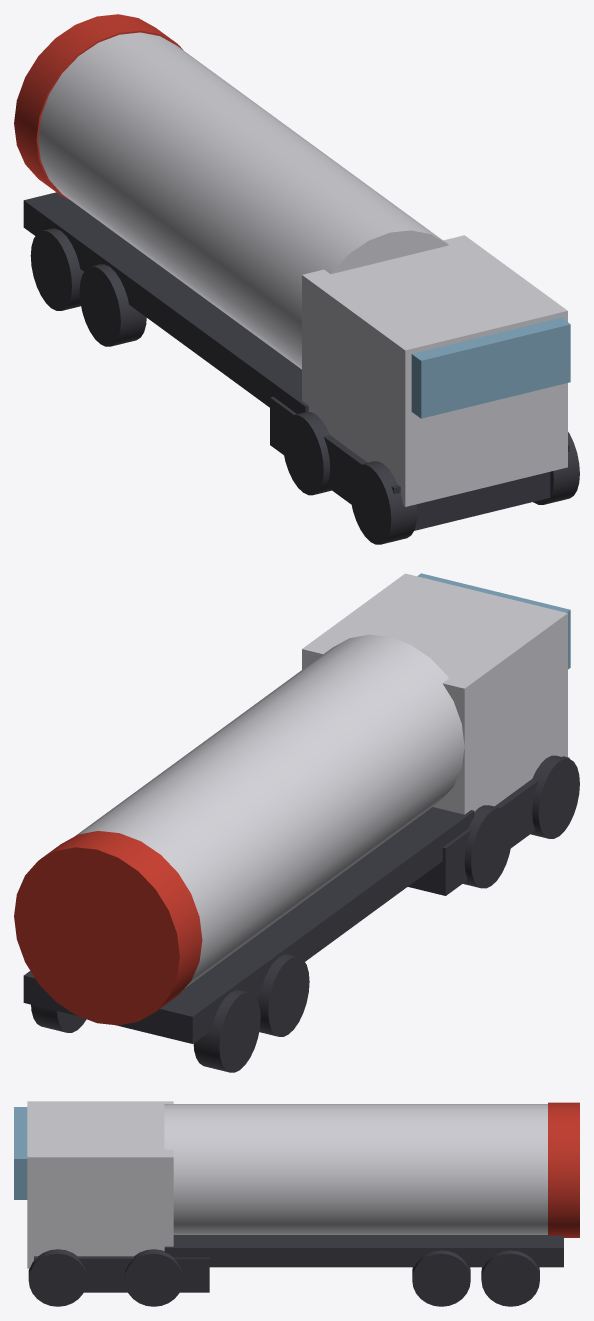
File: caminhao.glb
3 views of the same model, one above another, from view 1: azimuth 30°, elevation 25°; view 2: azimuth 150°, elevation 25°; view 3: azimuth 270°, elevation 25° (orthographic). The views are drawn at different scales.
Bounding box in the file's own units: 5.8 × 6.85 × 21.25.
